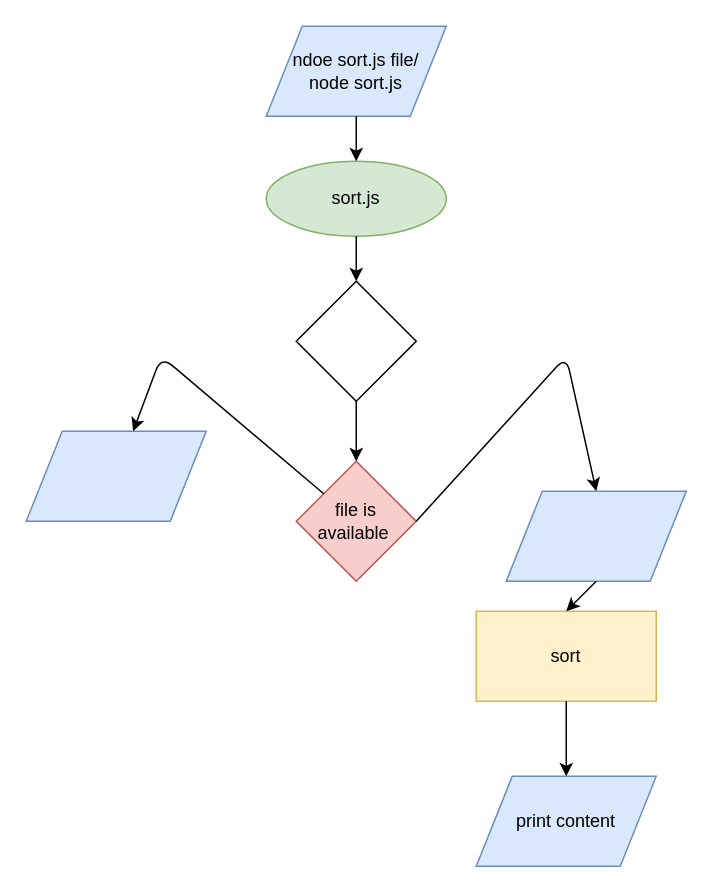
The diagram is 713 pixels wide and 893 high, and some of its shapes have lost their labels. Here are the shapes that lost their labels. From the top down, the centre of each, then its label:
At (x=355, y=340): "file is given".
At (x=115, y=475): "throw error".
At (x=595, y=535): "get content of file".
